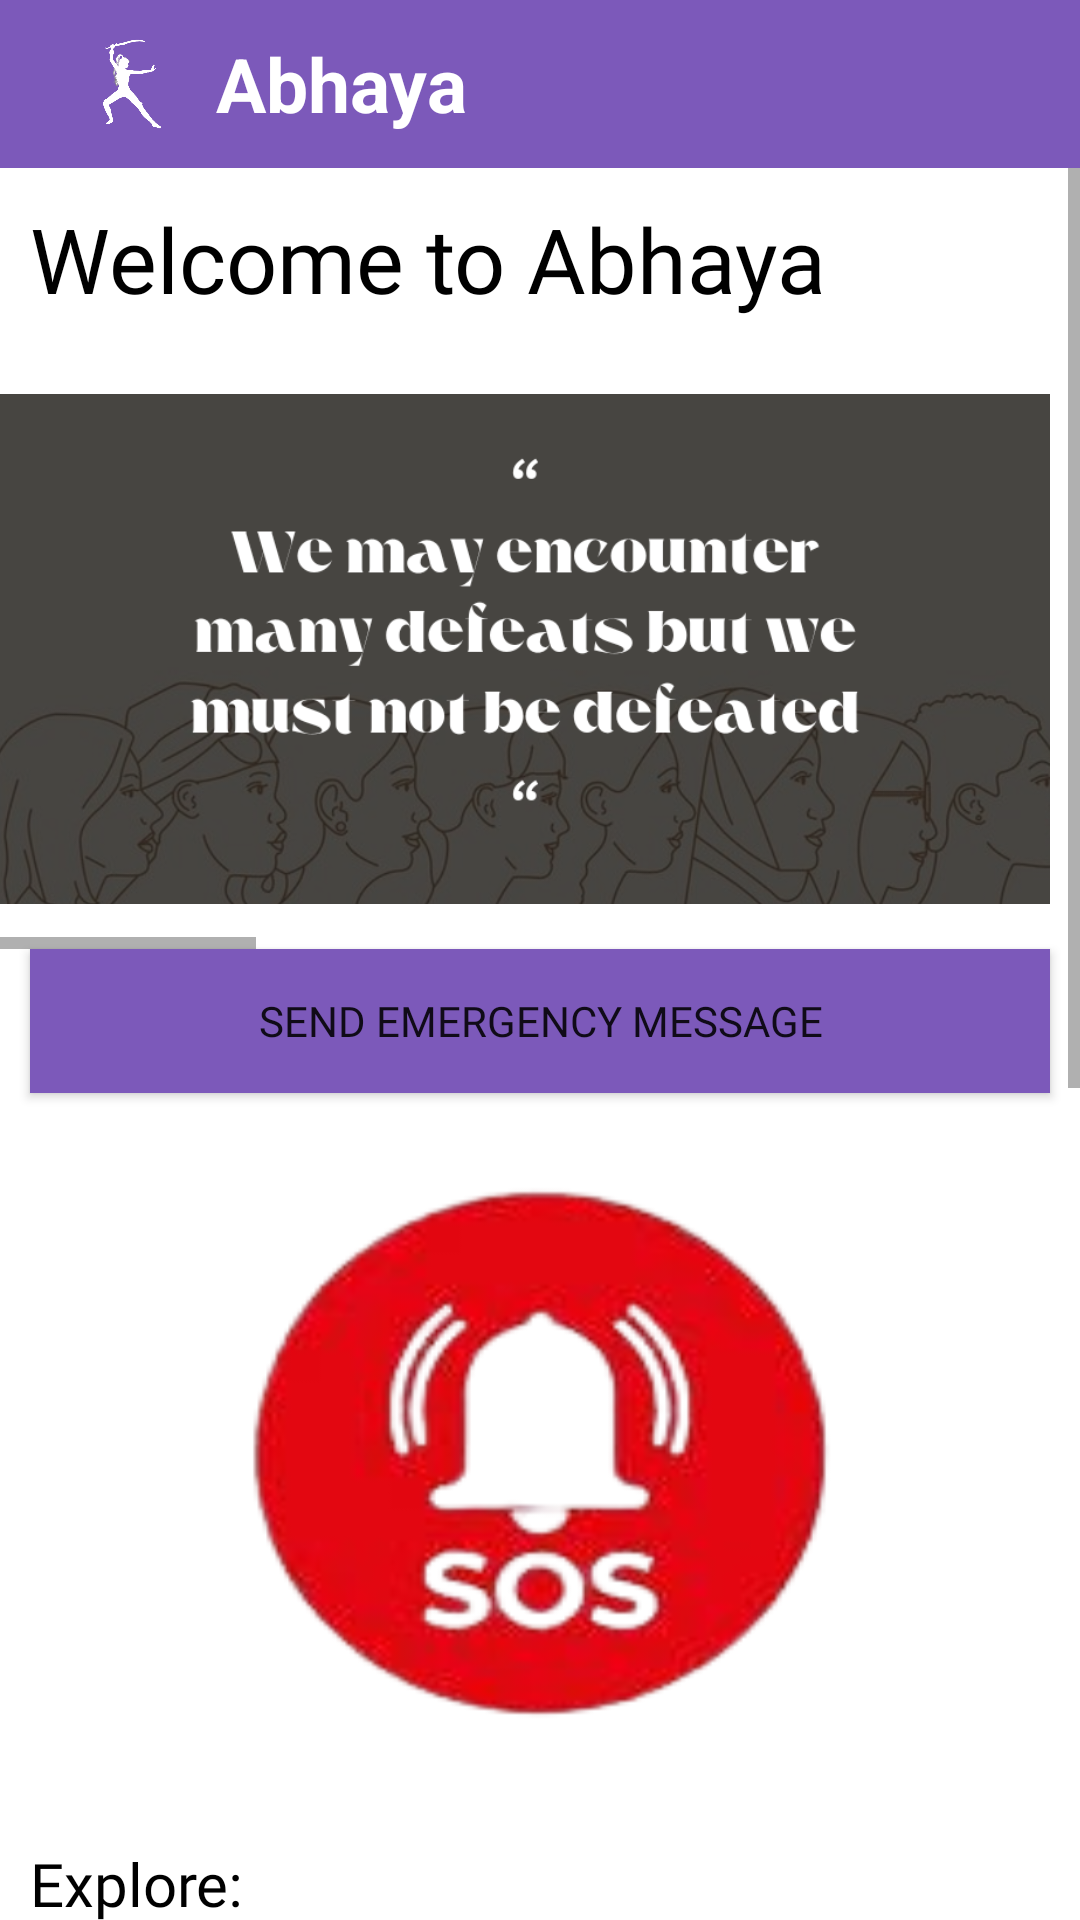

Icon bounding boxes for this 1080x1920 phone screenshot, format (x1=x1, y1=y1, x2=x2, y2=y2):
logg: (x1=103, y1=40, x2=161, y2=128)
